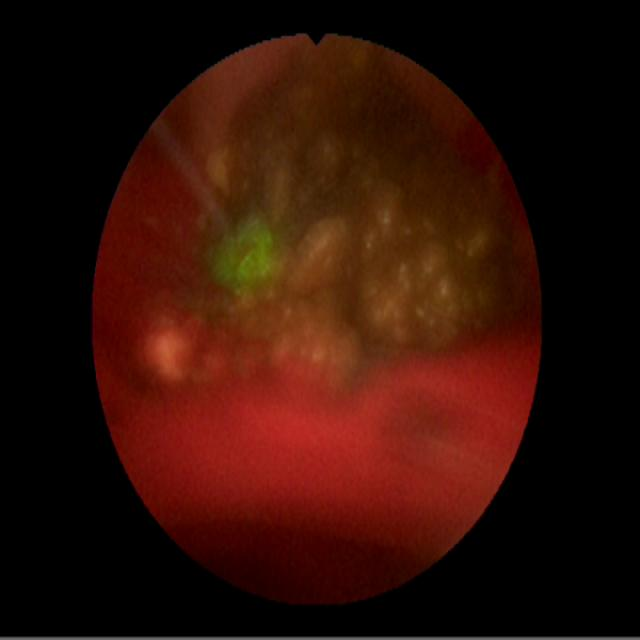stone: (192, 52, 518, 387)
tissue: (107, 78, 533, 585)
